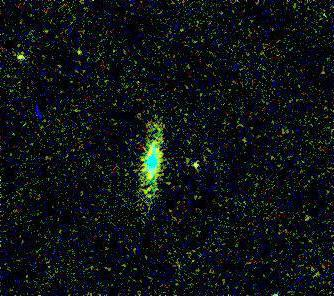star: (9, 43, 39, 73)
